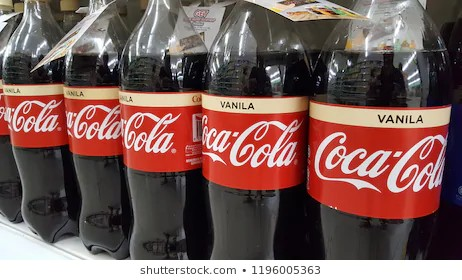coke-bottle-2l: (315, 1, 450, 256), (200, 1, 314, 256), (128, 1, 207, 261), (5, 1, 77, 243), (71, 1, 126, 255)
